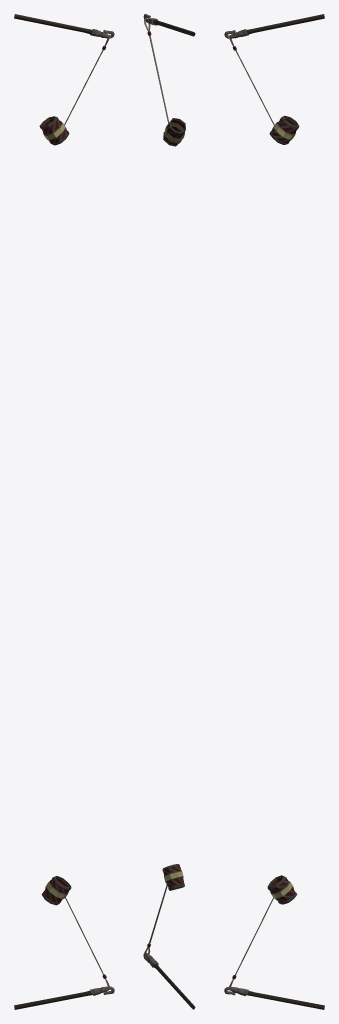
The model's file is smallBowTacticalProTip.glb.
3 views of the same model, side by side, from view 1: azimuth 90°, elevation 25°; view 2: azimuth 210°, elevation 25°; view 3: azimuth 270°, elevation 25° (orthographic).
Parts seen in each view (by area): view 1: smallBowTacticalProTip; view 2: smallBowTacticalProTip; view 3: smallBowTacticalProTip.
Boxes of the visible parts, box(x1,y1,x2,y2) form: smallBowTacticalProTip: box(14, 14, 114, 1009); smallBowTacticalProTip: box(143, 14, 195, 1009); smallBowTacticalProTip: box(224, 14, 324, 1009).
Size of the model in its own units: 0.0233 by 1.17 by 0.1076.
